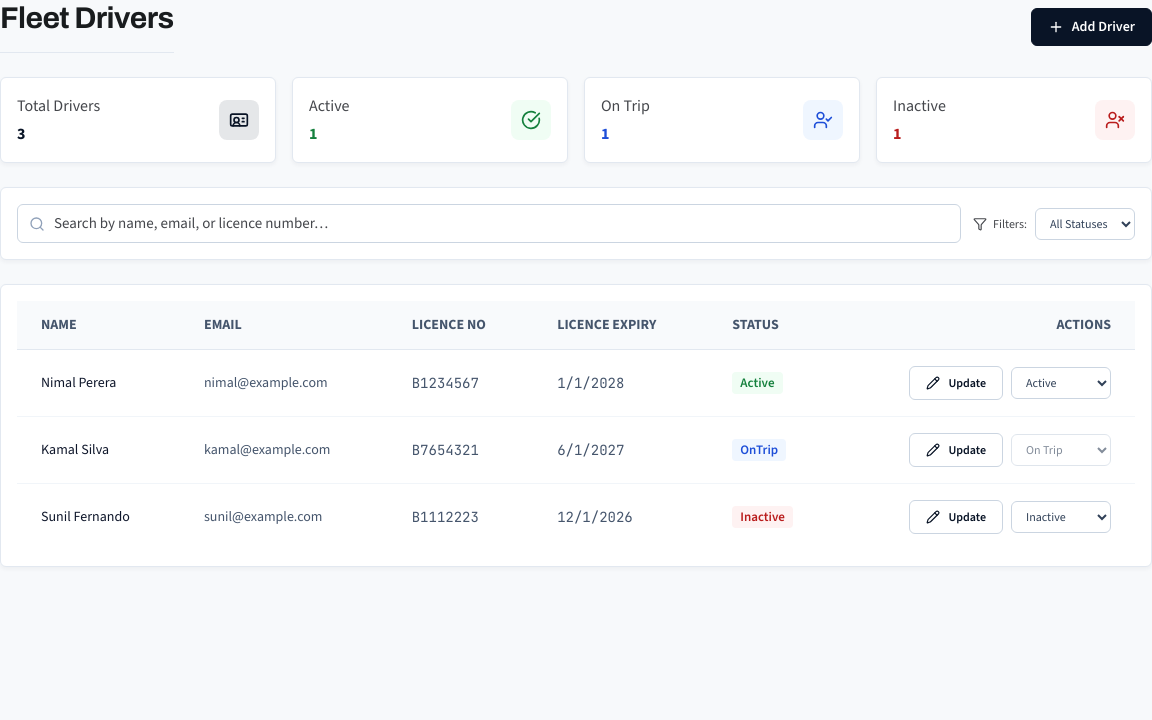
Test: FleetDriversPage › opens add driver drawer when "Add Driver" is clicked
This screenshot has width=1152, height=720.
Click the button "Add Driver" at (1091, 26), box [1031,8,1151,46]
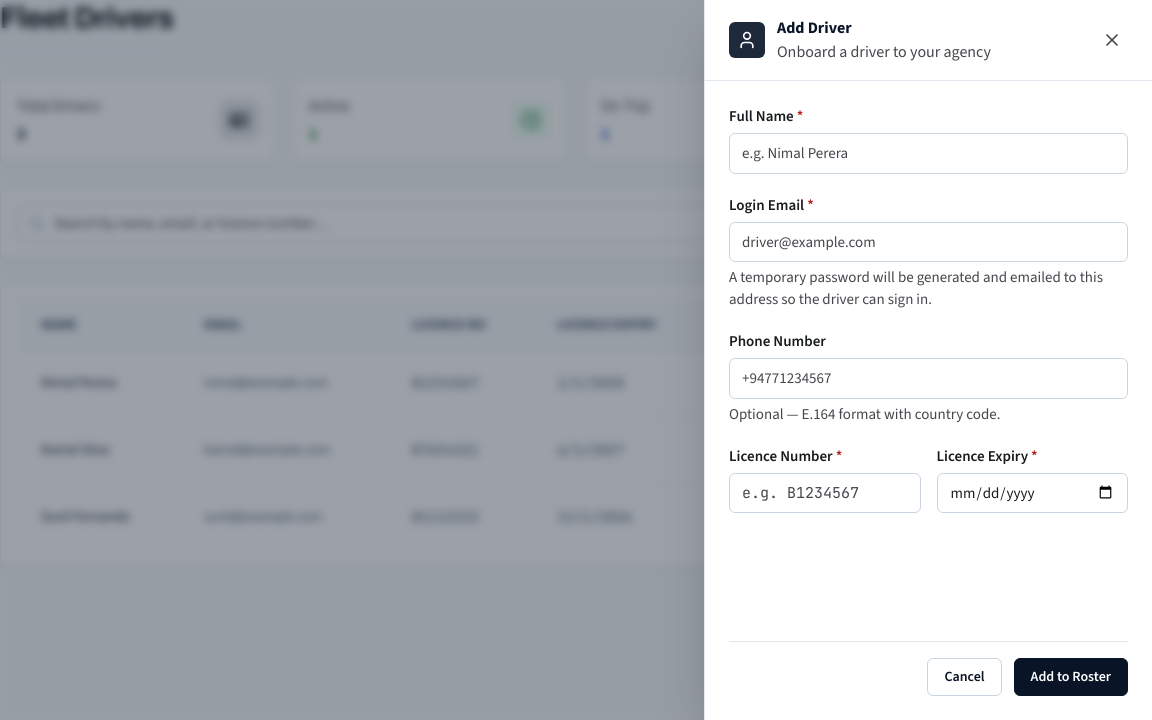
Now the dialog is shown, box [704,0,1151,719]
Now the heading "Add Driver" is shown, box [777,17,852,38]
